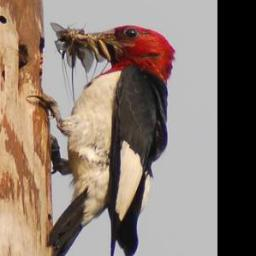Woodpecker: (27, 24, 175, 256)
